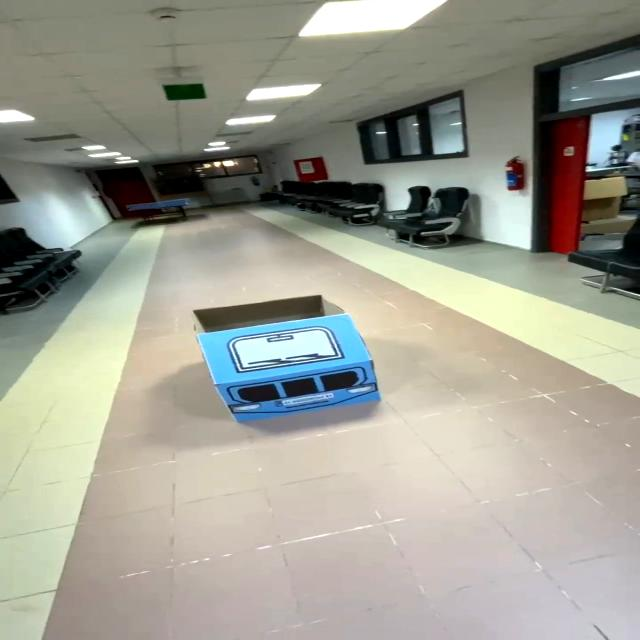blue_car: (167, 289, 404, 448)
